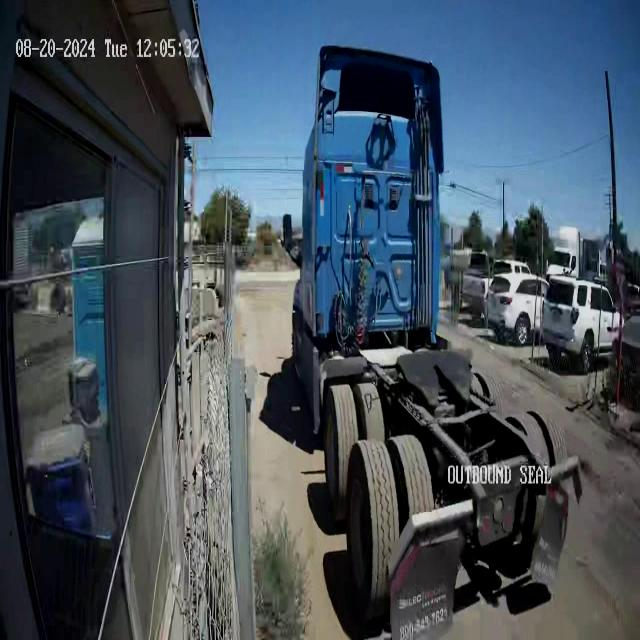BOBTAIL: (280, 43, 581, 640)
